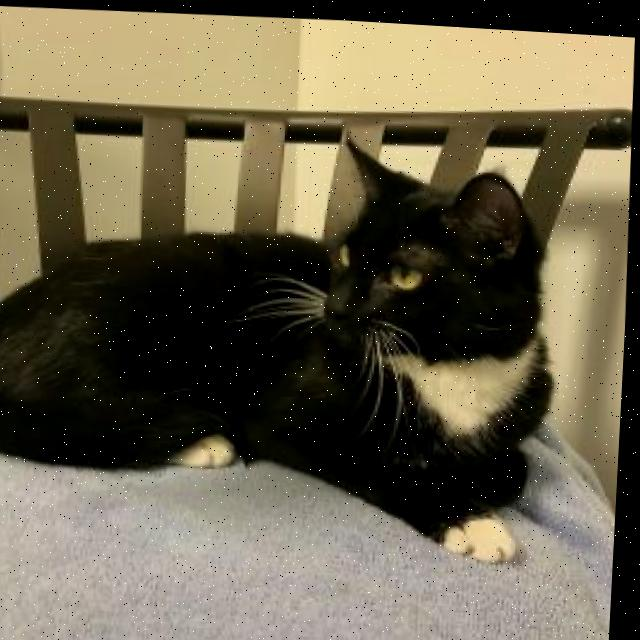Tuxedo: (0, 109, 575, 574)
